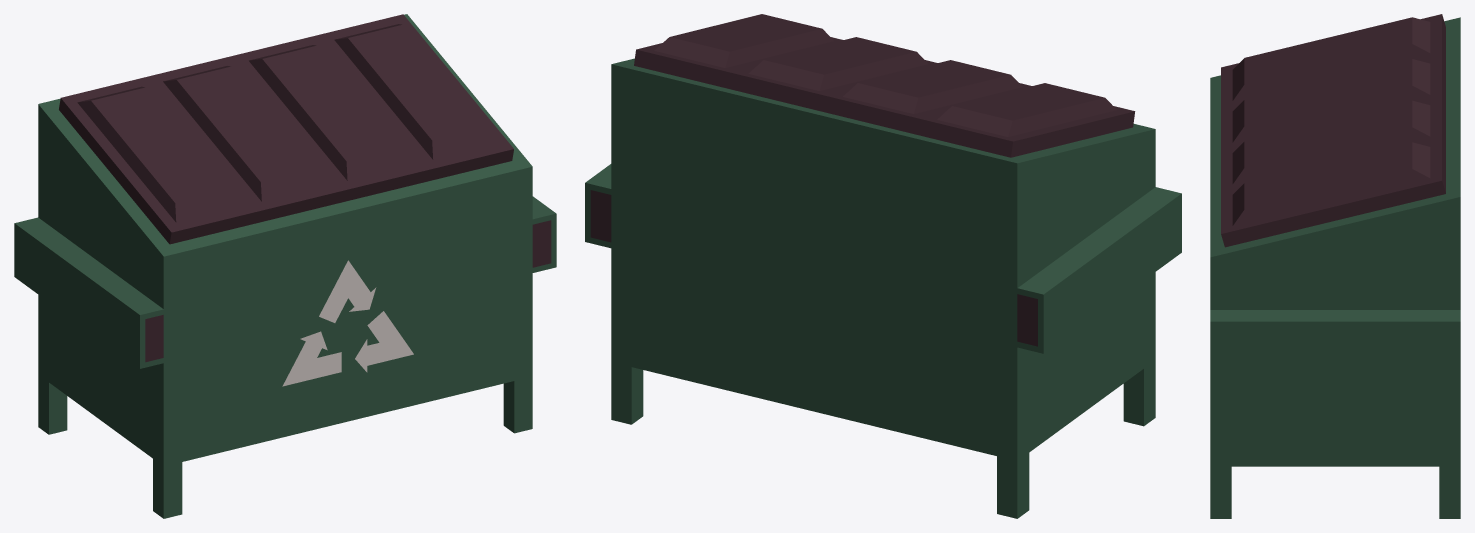
Rendered from GarbageContainer.fbx.
The picture shows the model from 3 angles, left to right: view 1: azimuth 30°, elevation 25°; view 2: azimuth 150°, elevation 25°; view 3: azimuth 270°, elevation 25°; orthographic projection. The views are drawn at different scales.
Visible parts, largest first — view 1: GarbageContainer; view 2: GarbageContainer; view 3: GarbageContainer.
Boxes of the visible parts, left/top/right/bottom form: GarbageContainer: left=14, top=14, right=556, bottom=518; GarbageContainer: left=585, top=14, right=1181, bottom=518; GarbageContainer: left=1210, top=14, right=1460, bottom=518.
Size of the model in its own units: 2.09 by 1.61 by 1.09.
